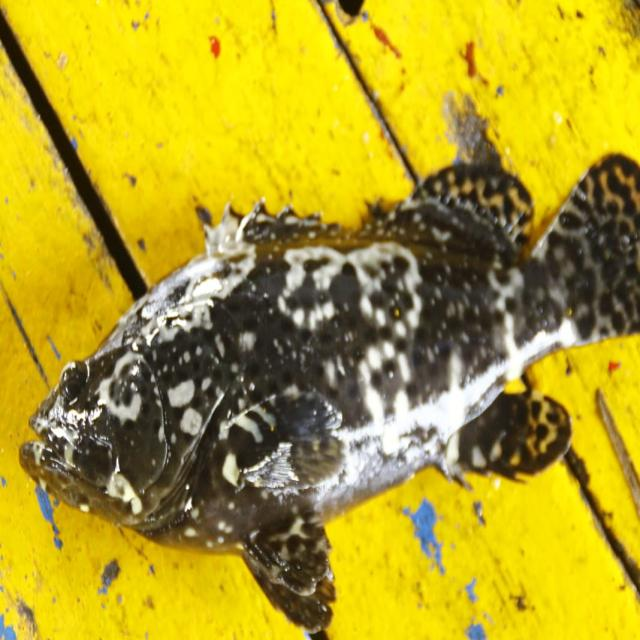ikan: (26, 169, 613, 601)
